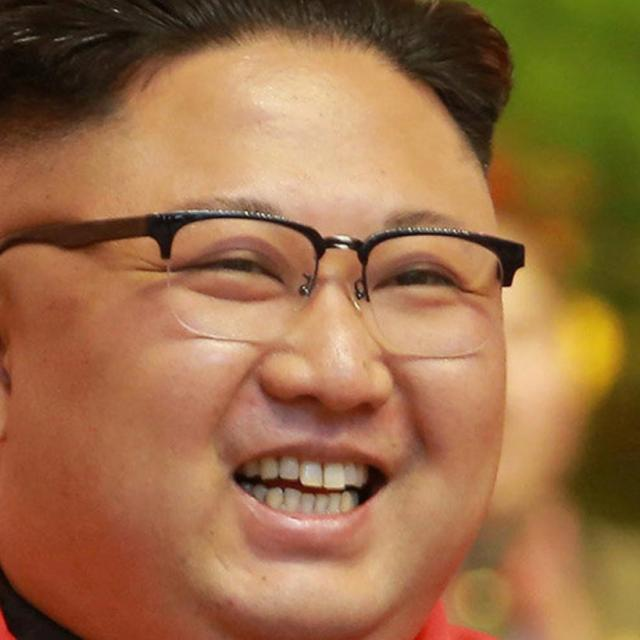Normal: (2, 33, 506, 638)
